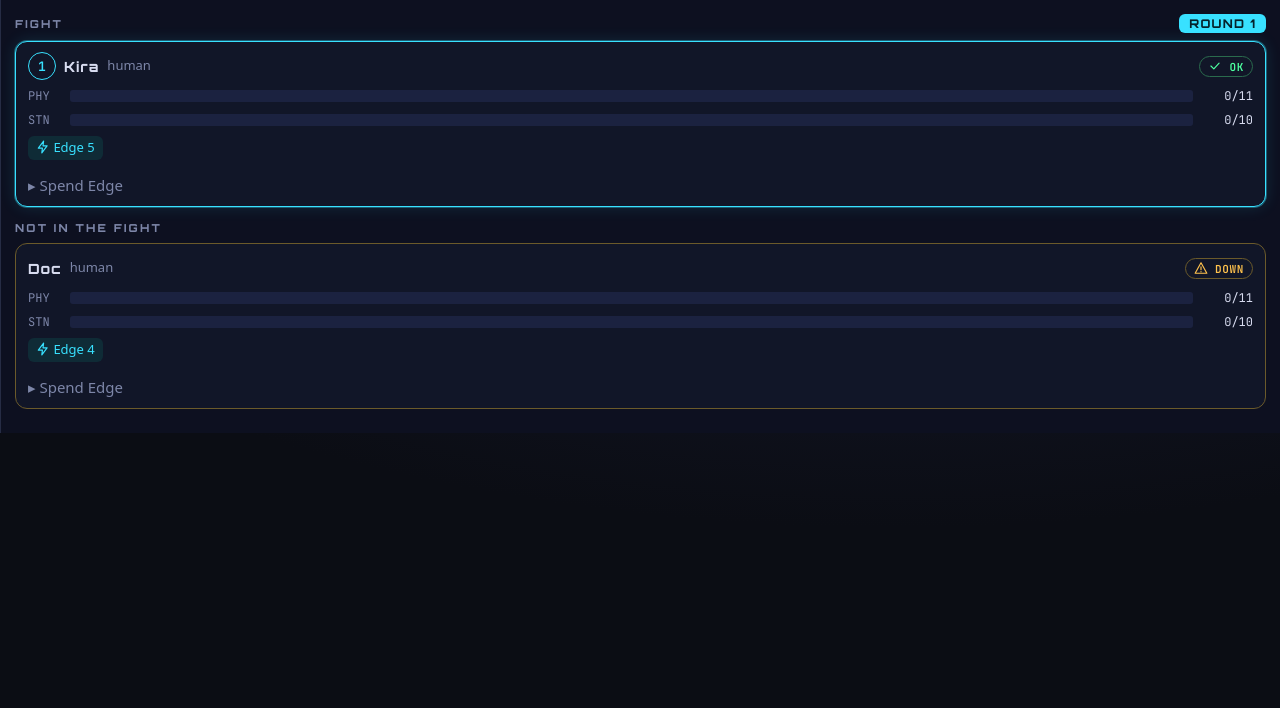
Scenario: the Edge menu on a party card › offers no ally who is not on their feet
Click the 1st button "▸ Spend Edge" at (76, 185), box [28,174,123,196]
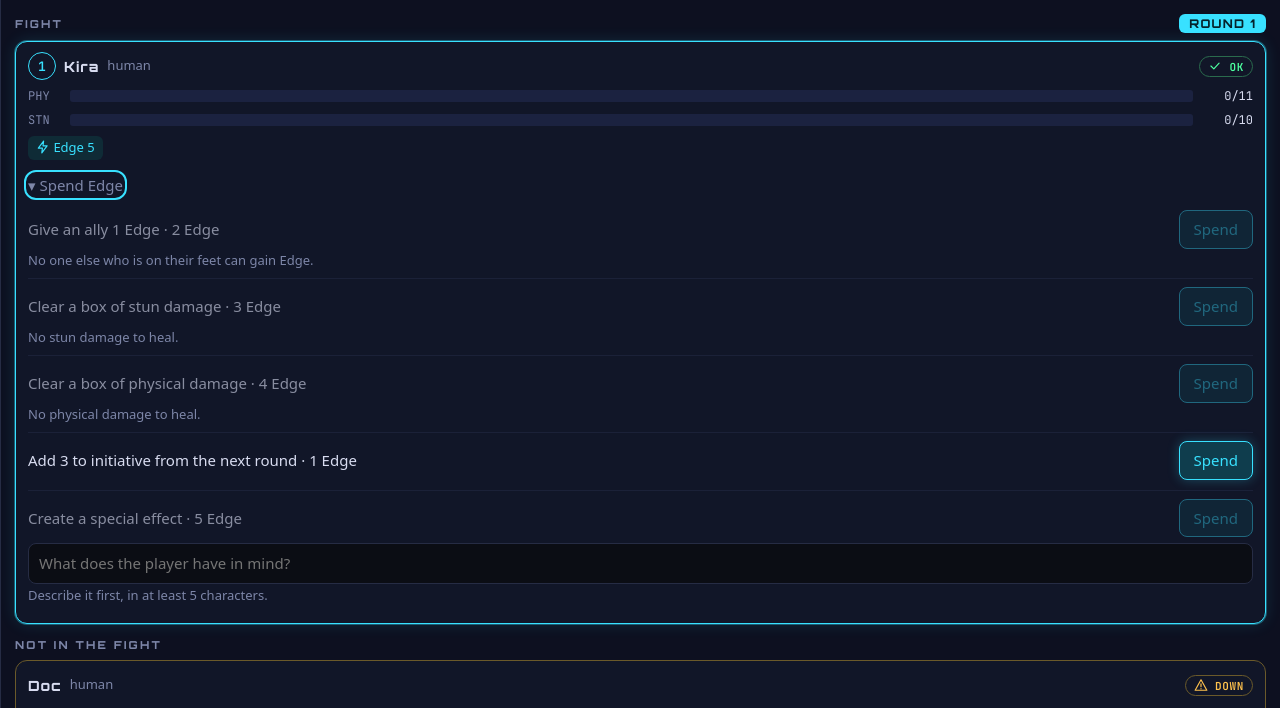
Now the text "No one else who is on their feet can gain Edge." is shown, box [28,250,314,268]
